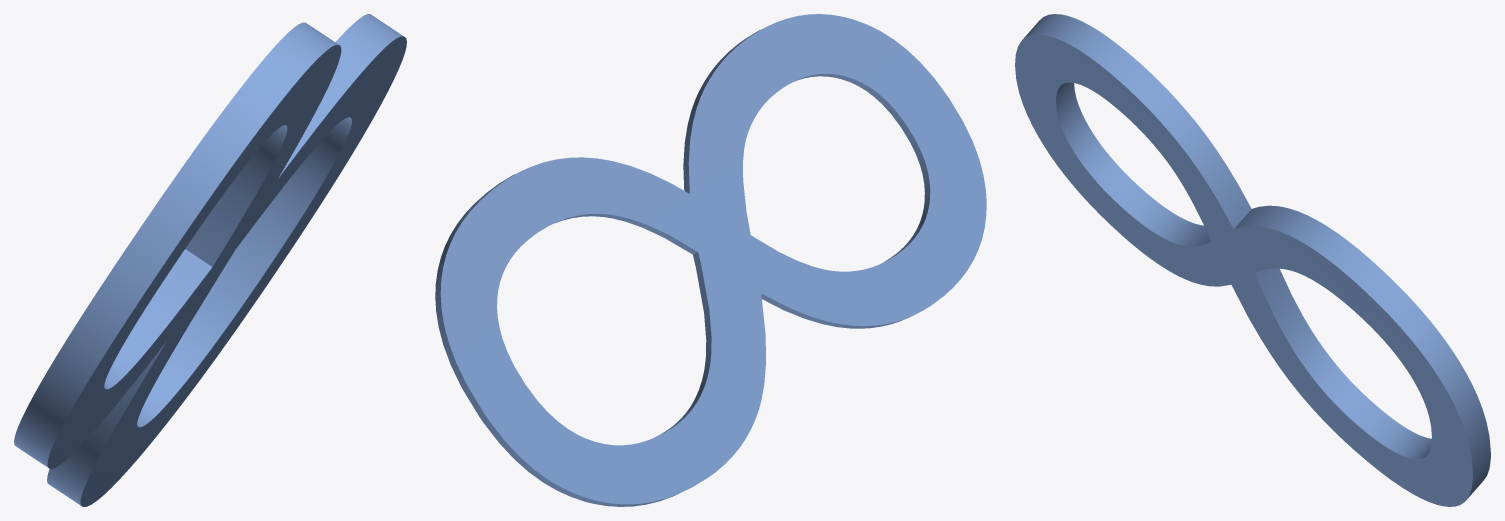
The model's file is New_Number_8.gltf.
3 views of the same model, side by side, from view 1: azimuth 30°, elevation 25°; view 2: azimuth 150°, elevation 25°; view 3: azimuth 270°, elevation 25° (orthographic). The views are drawn at different scales.
Parts seen in each view (by area): view 1: Part 359; view 2: Part 359; view 3: Part 359.
Boxes of the visible parts, x1,y1,x2,y2 form: Part 359: (14,14,406,506); Part 359: (435,14,986,506); Part 359: (1015,14,1490,506).
Size of the model in its own units: 0.00449 by 0.00439 by 0.00422.
